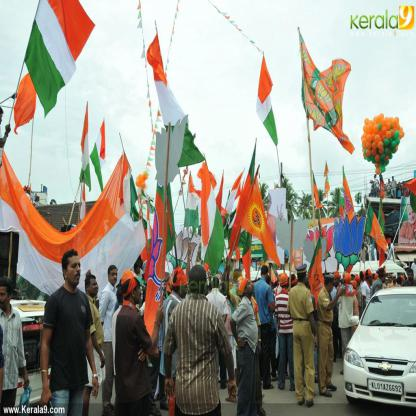face: (68, 260, 82, 283), (132, 284, 142, 304), (3, 288, 13, 307), (180, 281, 189, 298), (90, 279, 98, 294), (295, 254, 303, 268), (409, 209, 416, 224), (111, 271, 118, 284), (265, 198, 272, 211), (248, 281, 254, 292), (206, 288, 212, 296), (333, 277, 339, 285), (228, 284, 233, 293), (329, 284, 334, 293), (409, 273, 414, 282), (188, 285, 193, 293), (351, 274, 355, 283), (136, 266, 141, 273), (383, 274, 387, 282), (370, 274, 373, 282), (390, 277, 393, 283), (394, 277, 397, 282), (306, 274, 307, 283), (415, 260, 416, 263), (389, 180, 390, 183), (400, 183, 401, 186), (393, 178, 394, 181)
